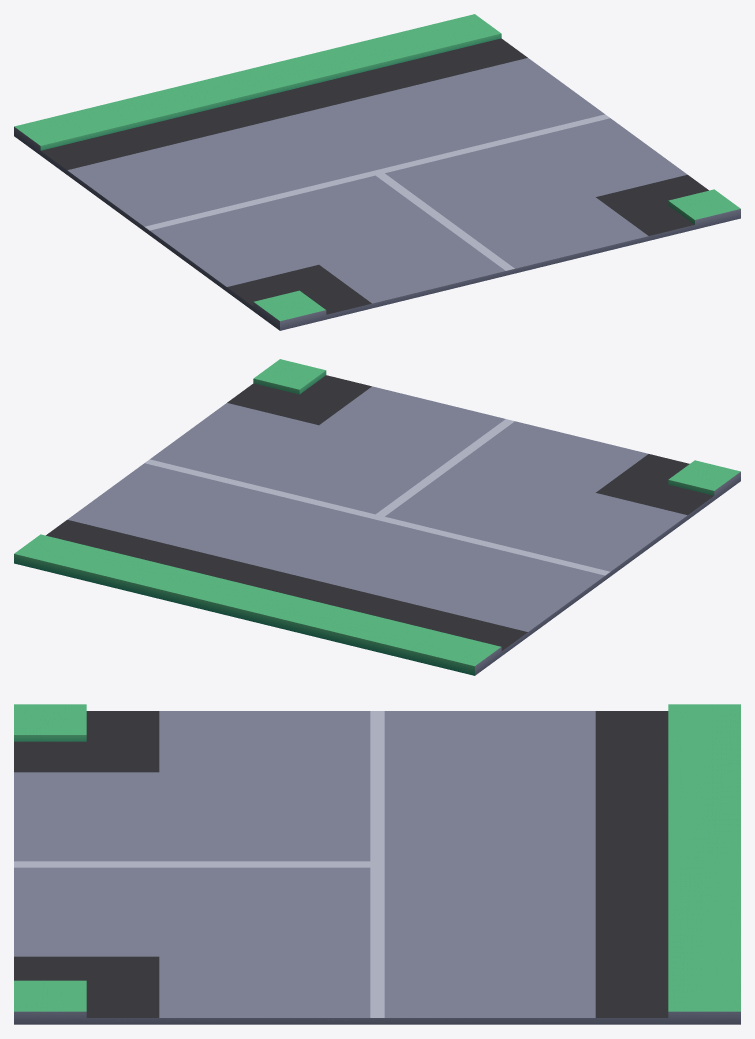
File: road_intersection_line.glb
The picture shows the model from 3 angles, top to bottom: view 1: azimuth 30°, elevation 25°; view 2: azimuth 150°, elevation 25°; view 3: azimuth 270°, elevation 25°; orthographic projection. The views are drawn at different scales.
Parts seen in each view (by area): view 1: road-intersection-line; view 2: road-intersection-line; view 3: road-intersection-line.
Boxes of the visible parts, box(x1,y1,x2,y2) form: road-intersection-line: box(14, 14, 740, 330); road-intersection-line: box(14, 359, 740, 675); road-intersection-line: box(14, 704, 740, 1024).
Size of the model in its own units: 1 by 0.02 by 1.
Materials: 1 (1 with a texture image).
